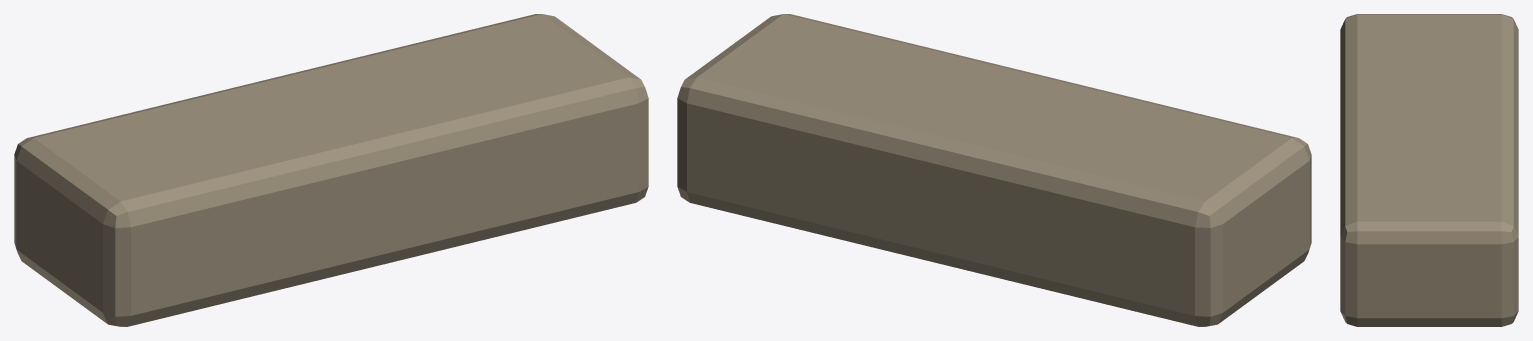
The model's file is rubble_cover_low_LOD1.glb.
3 views of the same model, side by side, from view 1: azimuth 30°, elevation 25°; view 2: azimuth 150°, elevation 25°; view 3: azimuth 270°, elevation 25° (orthographic). The views are drawn at different scales.
Parts seen in each view (by area): view 1: LOD1_LowPile; view 2: LOD1_LowPile; view 3: LOD1_LowPile.
Part boxes in pixels (left/top/right/bottom): LOD1_LowPile: left=14, top=14, right=648, bottom=326; LOD1_LowPile: left=677, top=14, right=1311, bottom=326; LOD1_LowPile: left=1340, top=14, right=1518, bottom=326.
Bounding box in the file's own units: 3.08 × 0.68 × 1.05.
